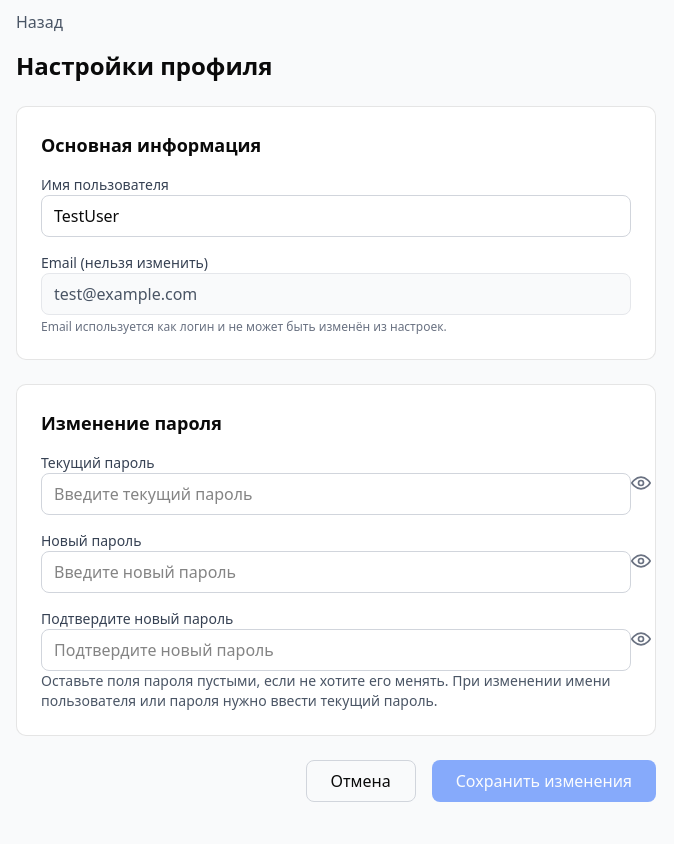
Scenario: SimpleSettingsPage › валидация: пароль › при вводе нового пароля без текущего — «Введите текущий пароль»
In the password field labelled "Новый пароль": (336,572) [41,551,631,593], type "newpass1"
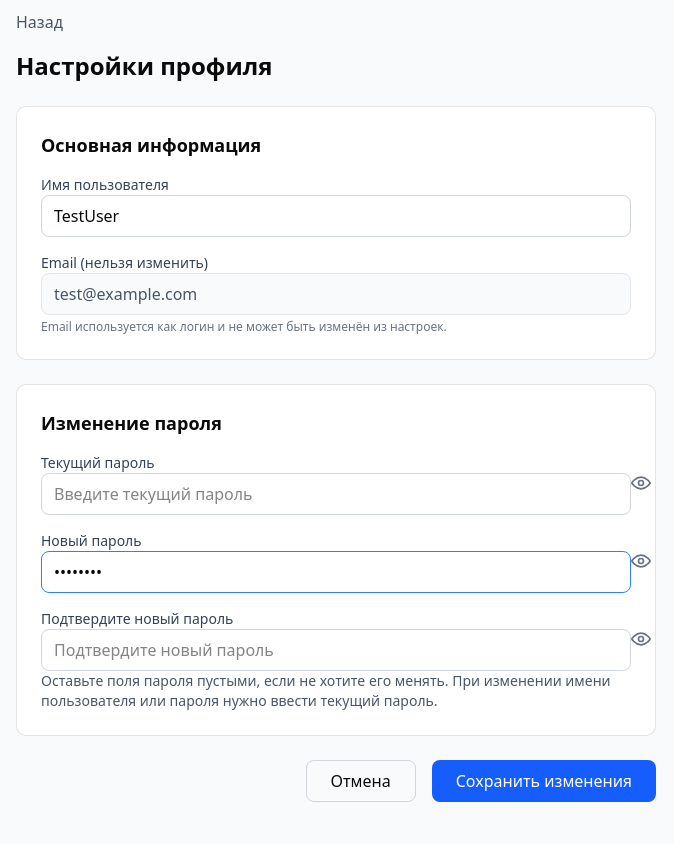
In the password field labelled "Подтвердите новый пароль": (336,650) [41,629,631,671], type "newpass1"
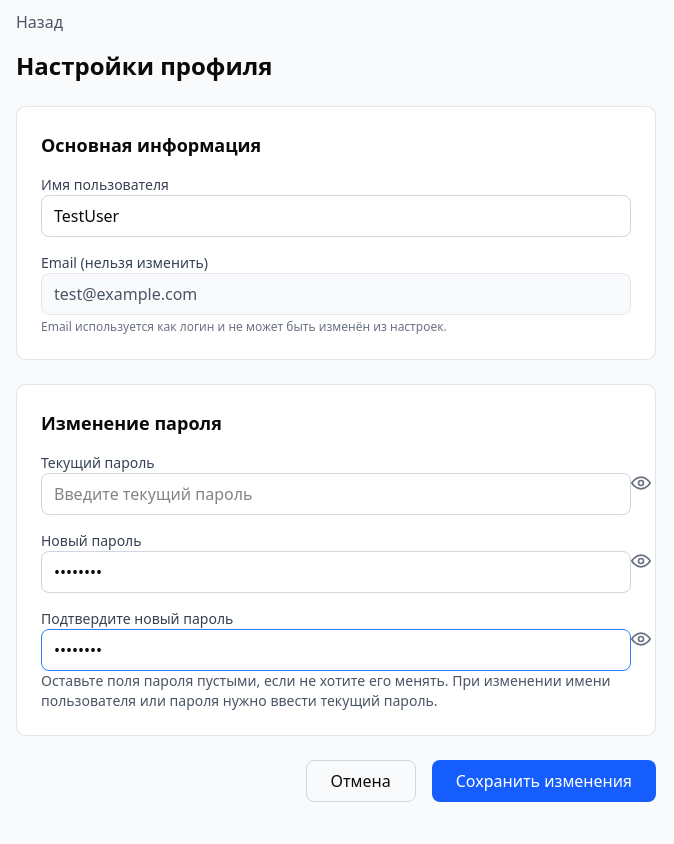
Click the button "Сохранить изменения": (544,781) [432,760,656,802]
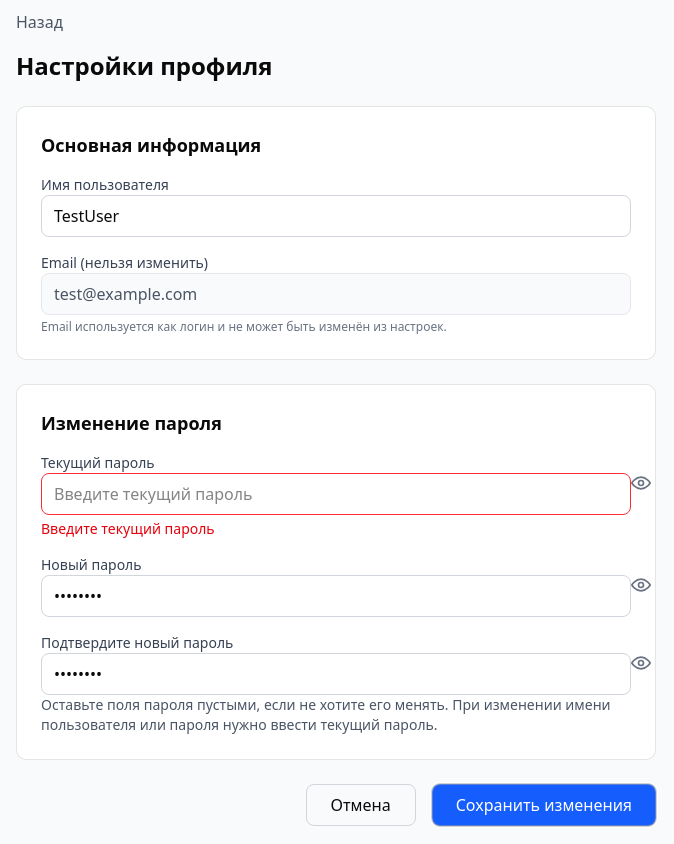
Expected: the text "Введите текущий пароль" is shown, [41,519,215,538]
